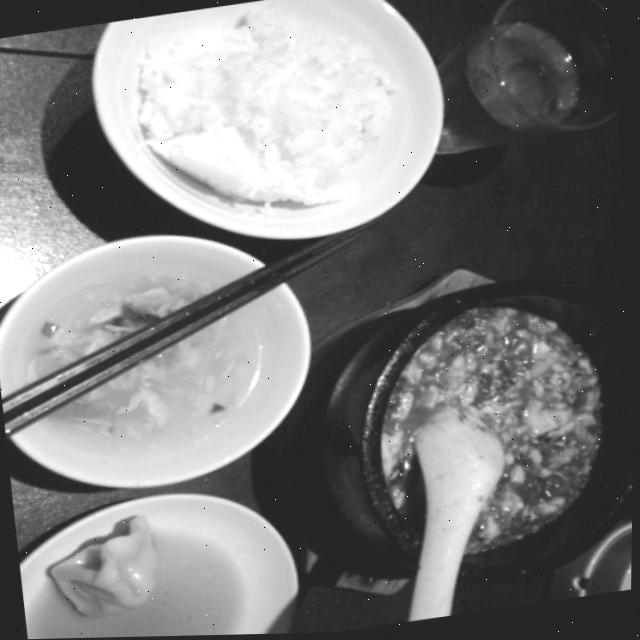米饭主食: (72, 0, 487, 287)
